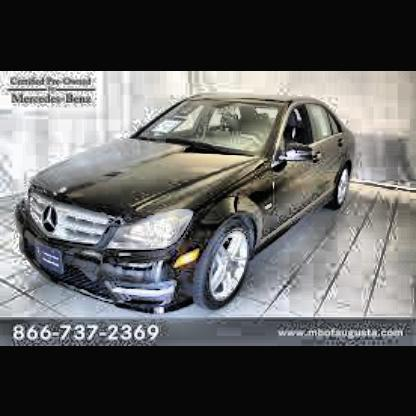Mercedes-Benz C-Class Sedan 2012: (19, 98, 355, 316)
